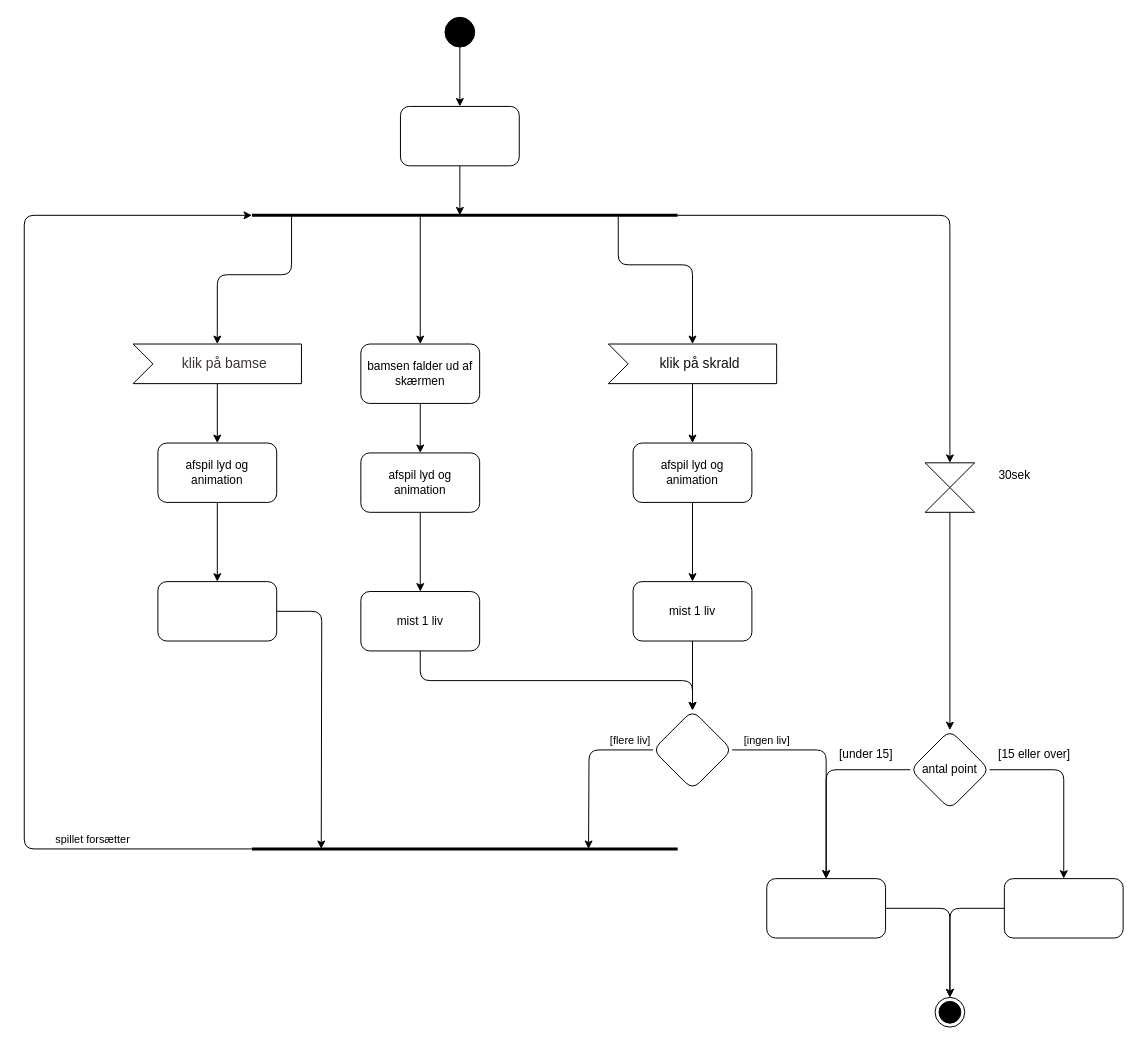
This 1140x1044 diagram has some shape labels left out. Each missing label, with the centre of its shape:
antal liv: [692,749]
Bamser og skrald begynder at falde ned fra toppen af skærmen: [459,135]
få 1 point: [217,611]
gameover: [826,908]
level complete: [1063,908]
